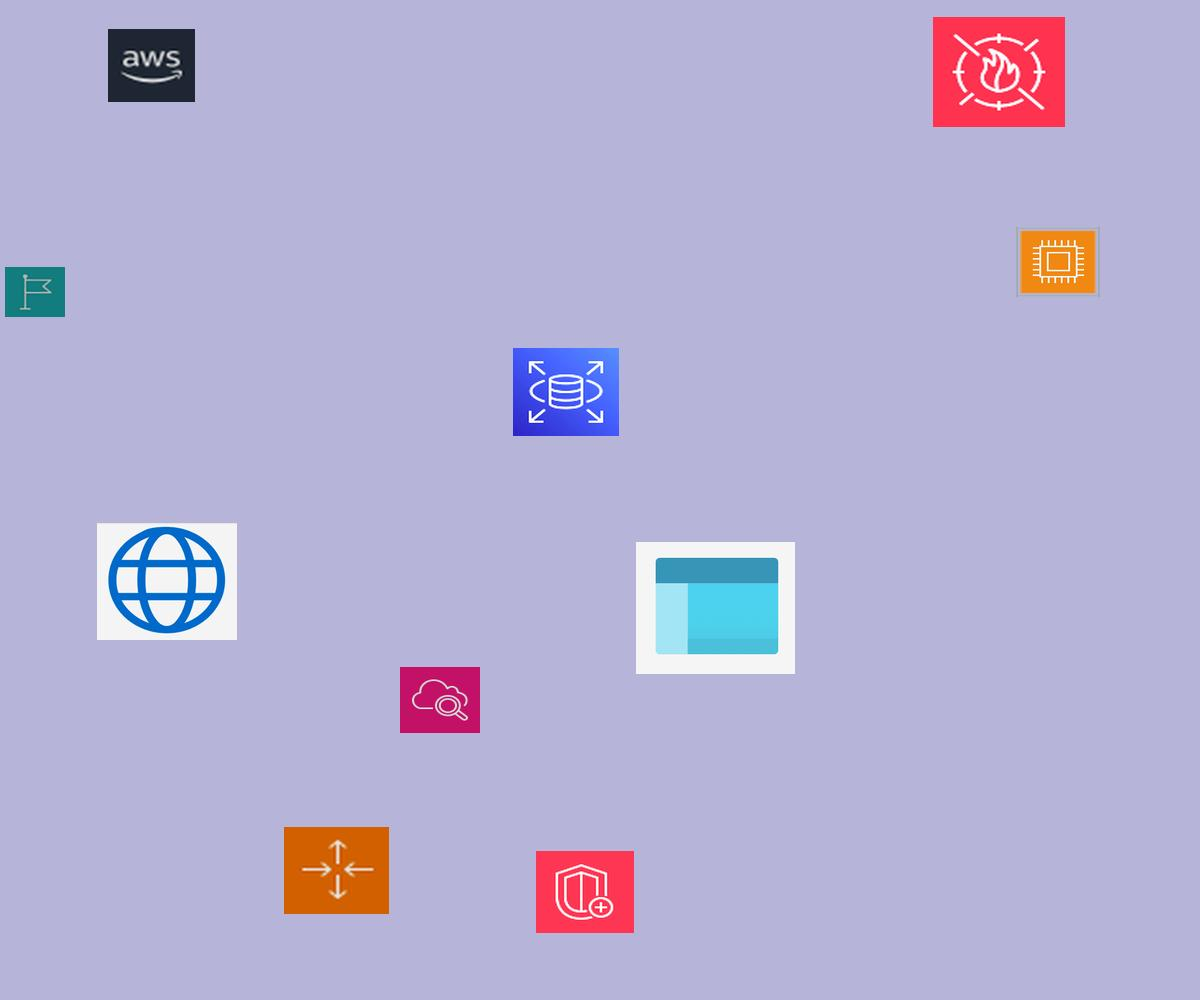AWS-Category_Compute: (1016, 227, 1100, 297)
AWS-Cloud-logo: (108, 29, 195, 102)
AWS-CloudWatch: (400, 667, 480, 733)
AWS-RDS: (513, 348, 619, 436)
AWS-Region: (5, 267, 65, 317)
AWS-Scaling-group: (284, 827, 389, 914)
AWS-Shield: (536, 851, 634, 933)
AWS-WAF: (933, 17, 1065, 127)
Azure_http: (97, 523, 237, 640)
Azure_management-portal: (636, 542, 795, 674)
